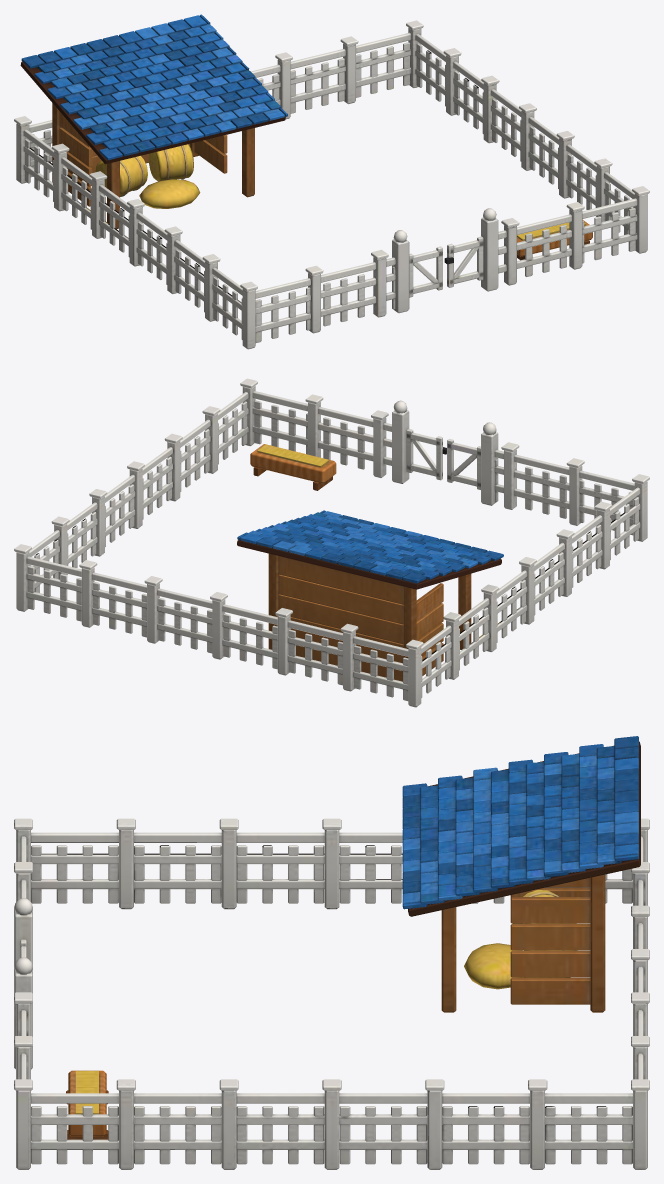
The model's file is sheepfold.glb.
3 views of the same model, one above another, from view 1: azimuth 30°, elevation 25°; view 2: azimuth 150°, elevation 25°; view 3: azimuth 270°, elevation 25° (orthographic). The views are drawn at different scales.
Parts seen in each view (by area): view 1: sheepfold, gate1, gate0; view 2: sheepfold, gate1, gate0; view 3: sheepfold.
Part boxes in pixels (x1,y1,x2,y2): sheepfold: (14,14,649,349); gate1: (444,236,483,287); gate0: (409,246,442,297); sheepfold: (14,378,649,707); gate1: (406,429,446,480); gate0: (447,439,480,489); sheepfold: (14,736,649,1169).
Size of the model in its own units: 2.99 by 0.9346 by 2.99.
1 material, 1 textured.
